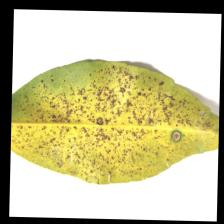canker: (44, 79, 155, 156)
